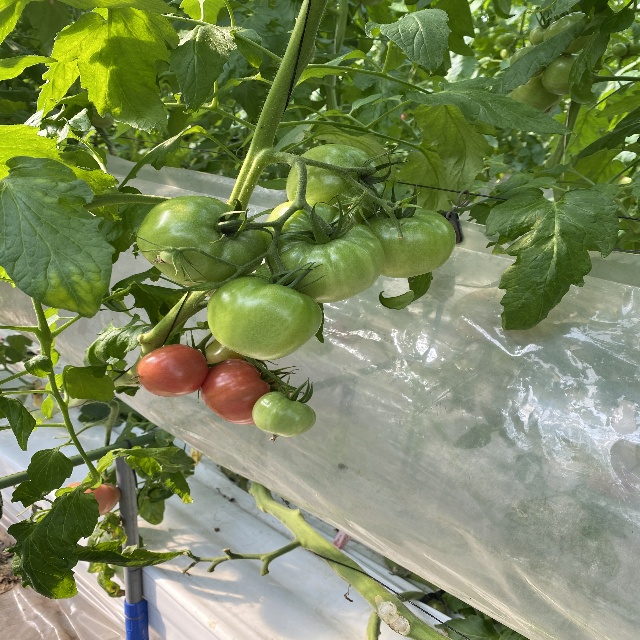b_fully_ripened: (200, 359, 291, 425), (135, 344, 209, 397)
b_green: (261, 200, 386, 303), (134, 195, 266, 291), (206, 272, 324, 361), (286, 145, 389, 225), (360, 206, 458, 279), (252, 391, 318, 437), (508, 72, 566, 116), (543, 12, 594, 55), (541, 54, 580, 95), (530, 27, 548, 46), (160, 250, 181, 264)
b_half_ripened: (202, 338, 265, 373), (67, 482, 120, 516)
